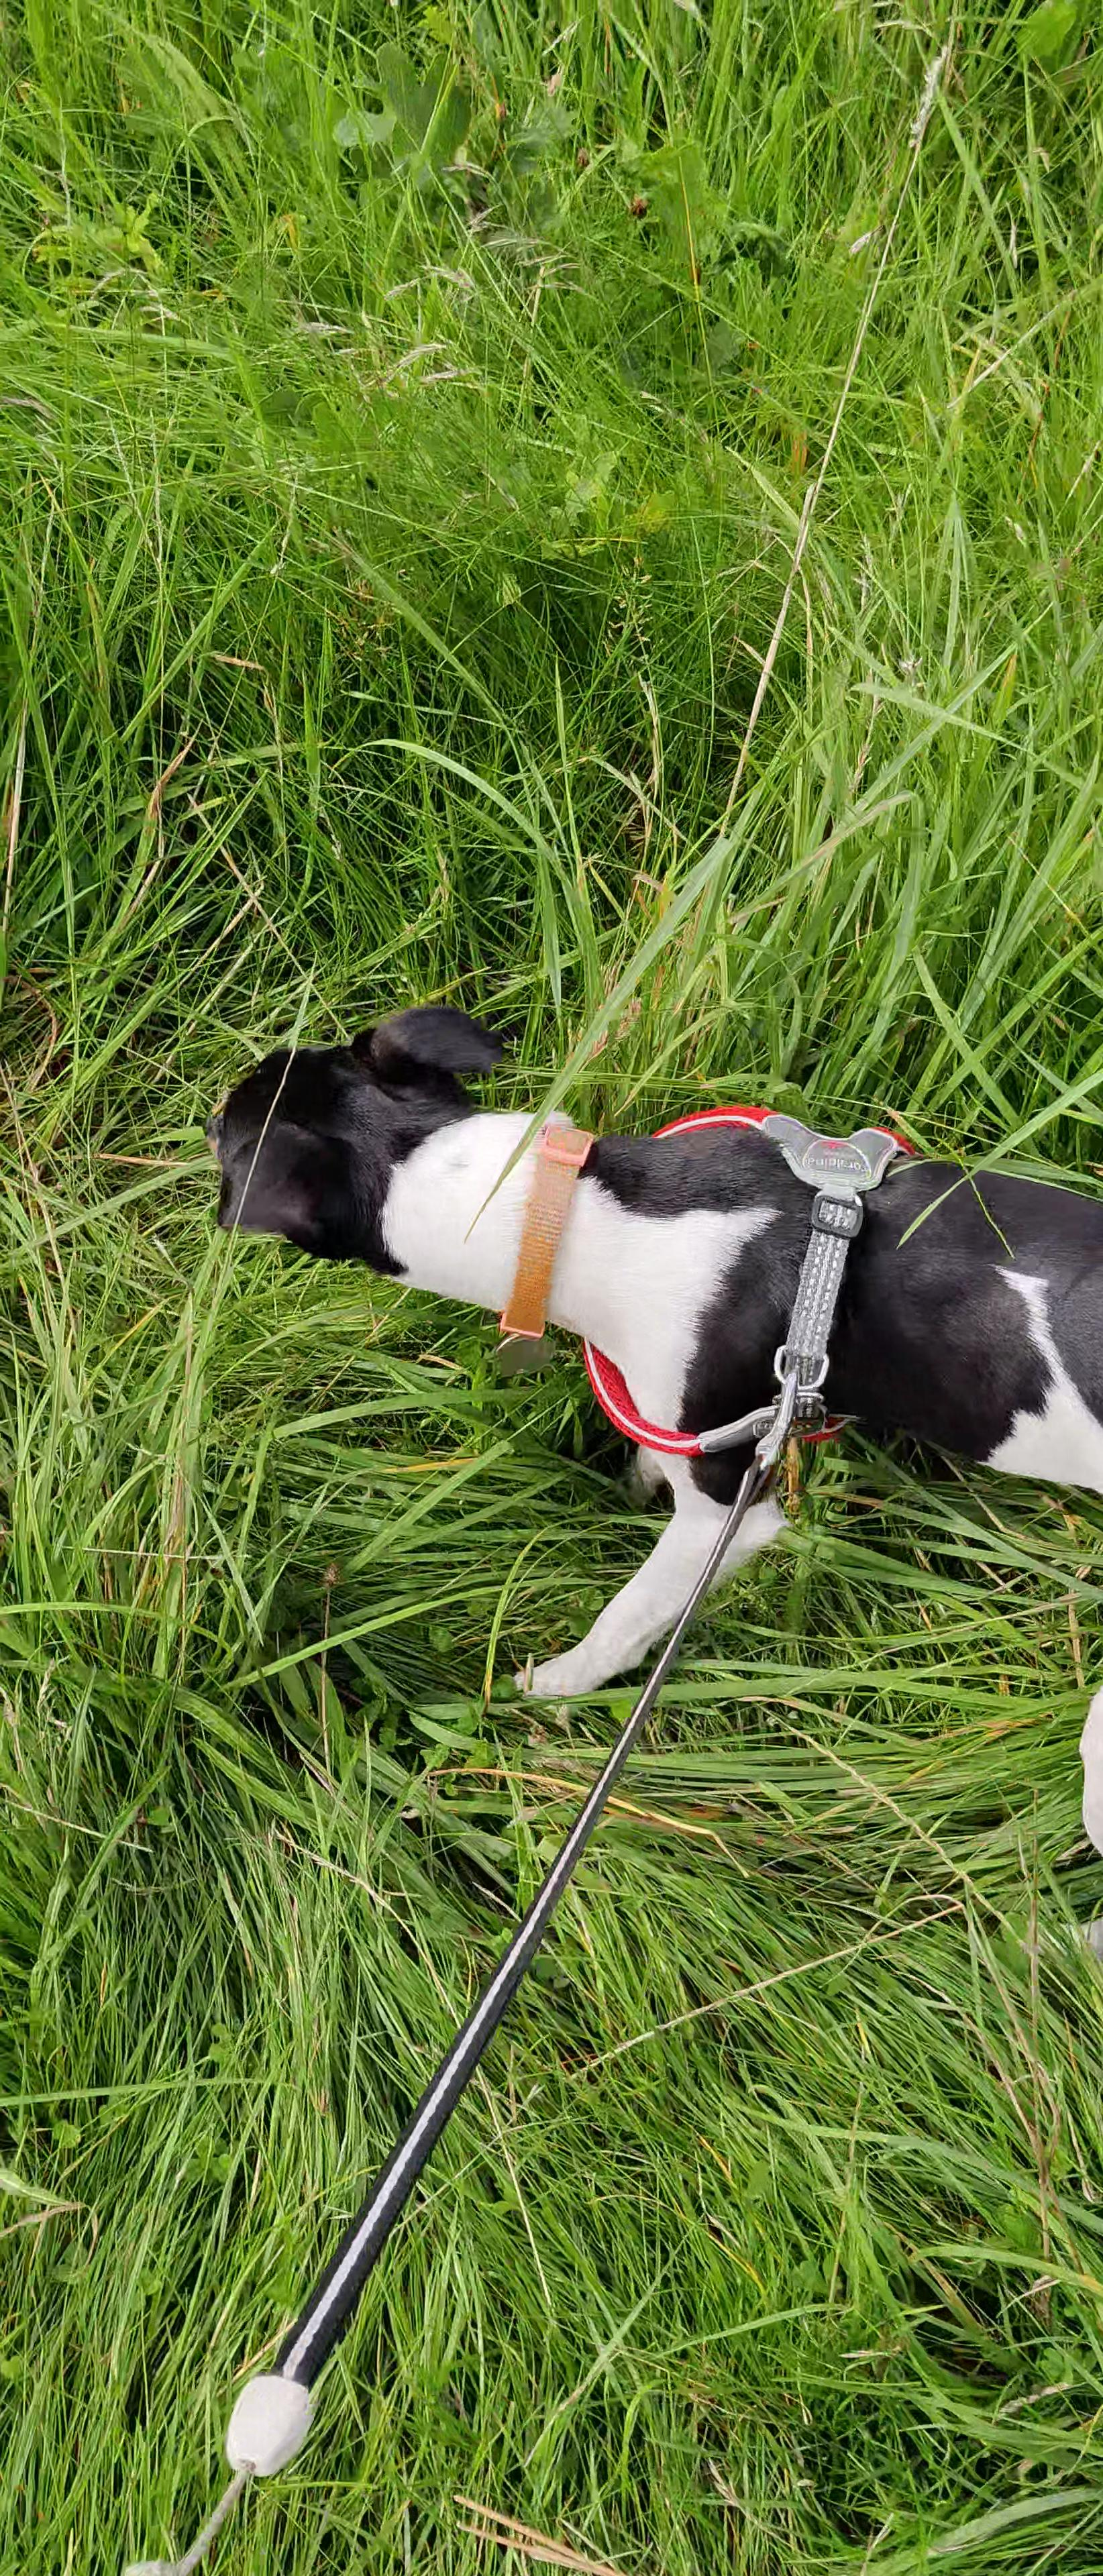Dog: (164, 973, 1103, 1871)
